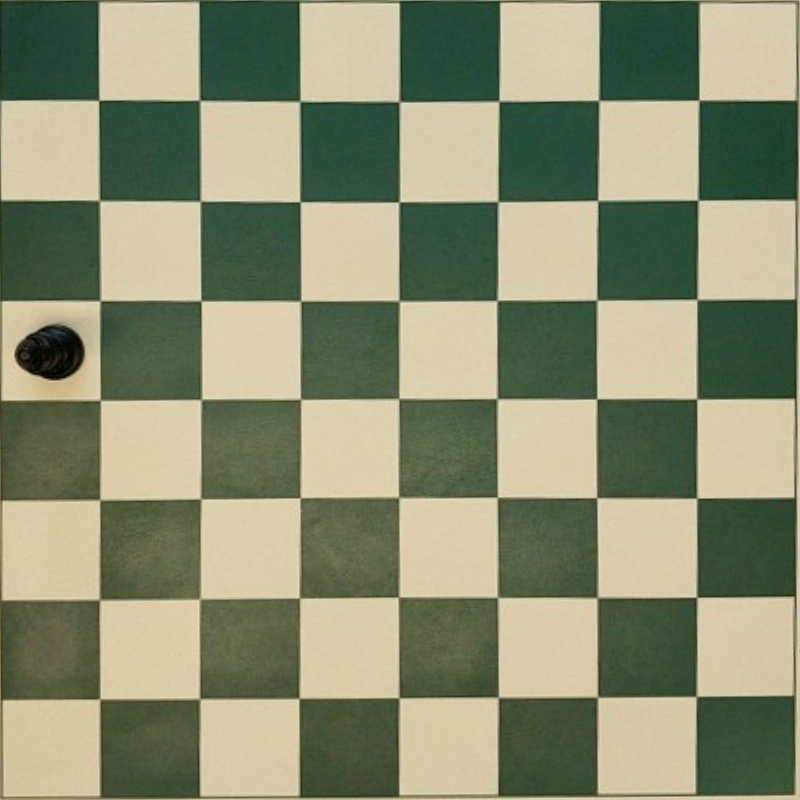black-bishop: (14, 324, 84, 381)
